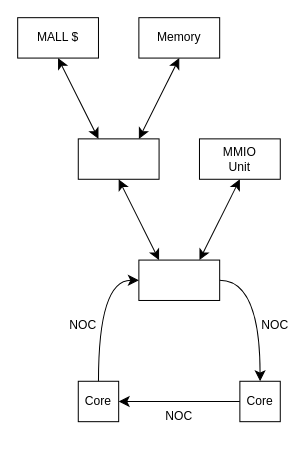
The diagram is 308 pixels wide and 449 high, and some of its shapes have lost their labels. The centre of each missing label's shape, as x and y in pixels:
Memory IO Unit: point (118, 158)
System Agent: point (179, 279)
